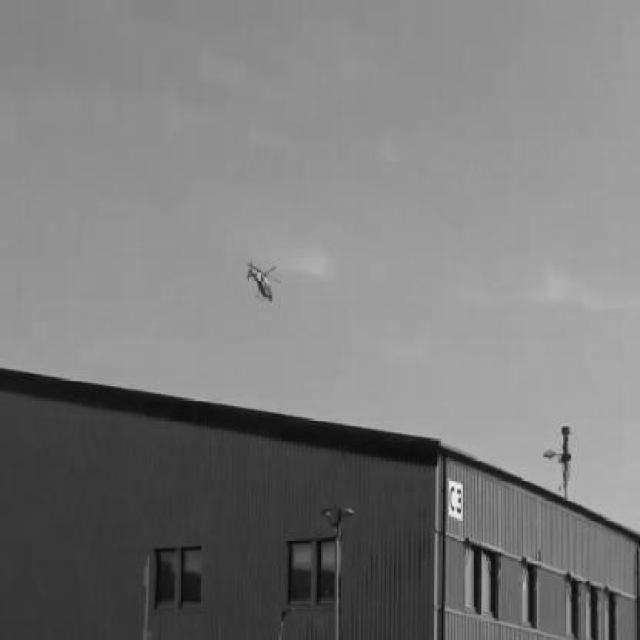helikopter: (246, 260, 276, 302)
